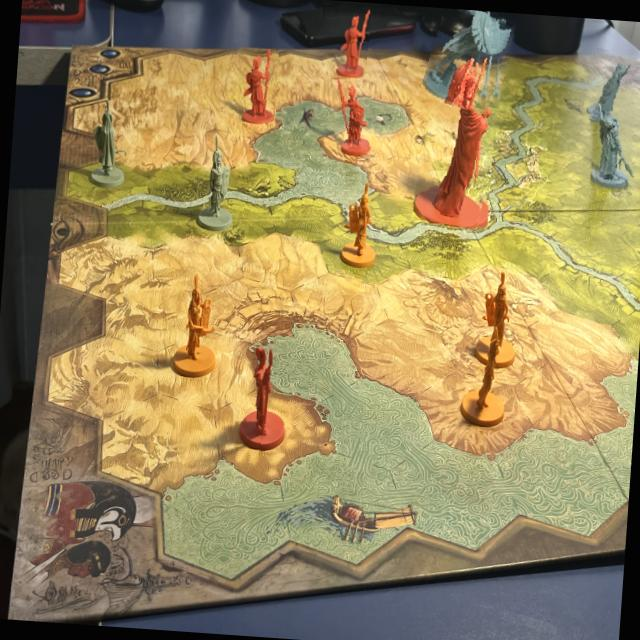amon: (415, 48, 503, 228)
amon_follower: (234, 331, 293, 457), (328, 73, 380, 162), (233, 46, 279, 123), (334, 3, 371, 78)
isis: (422, 7, 508, 112)
isis_follower: (586, 102, 636, 194), (584, 49, 635, 120)
